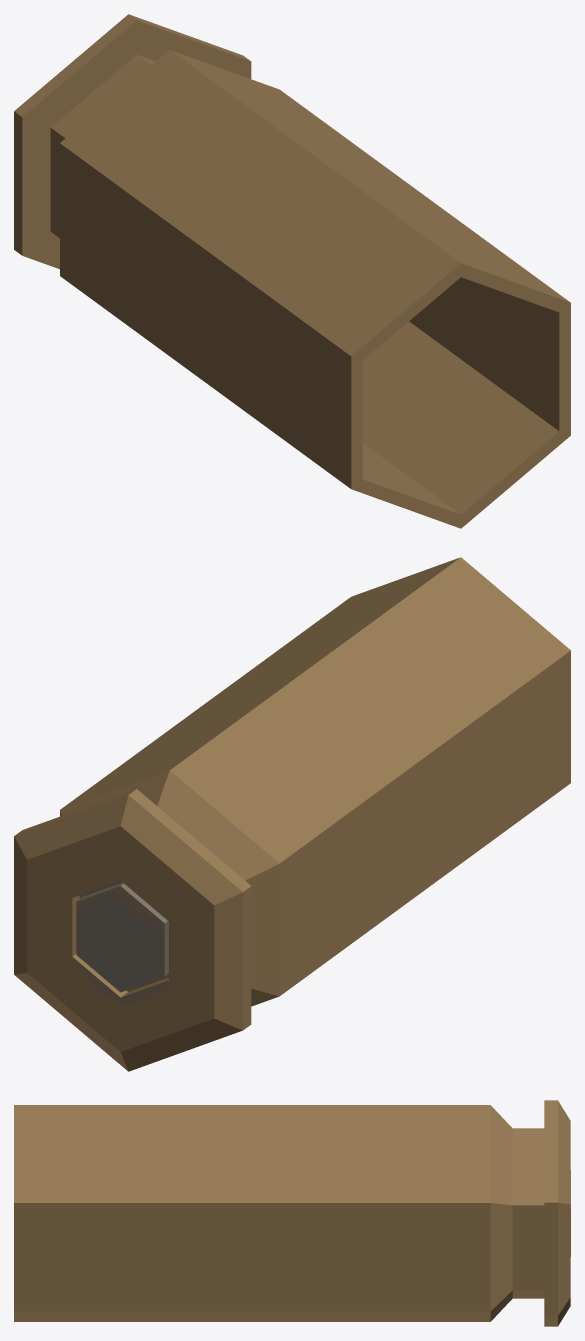
File: SM_Deagle_Casing.fbx
The picture shows the model from 3 angles, top to bottom: view 1: azimuth 30°, elevation 25°; view 2: azimuth 150°, elevation 25°; view 3: azimuth 270°, elevation 25°; orthographic projection. The views are drawn at different scales.
Visible parts, largest first — view 1: SM_Deagle_Casing; view 2: SM_Deagle_Casing; view 3: SM_Deagle_Casing.
Part boxes in pixels (<box>): SM_Deagle_Casing: <box>14,14,570,528</box>; SM_Deagle_Casing: <box>14,557,570,1071</box>; SM_Deagle_Casing: <box>14,1100,570,1326</box>.
Size of the model in its own units: 1.27 by 1.47 by 3.27.
